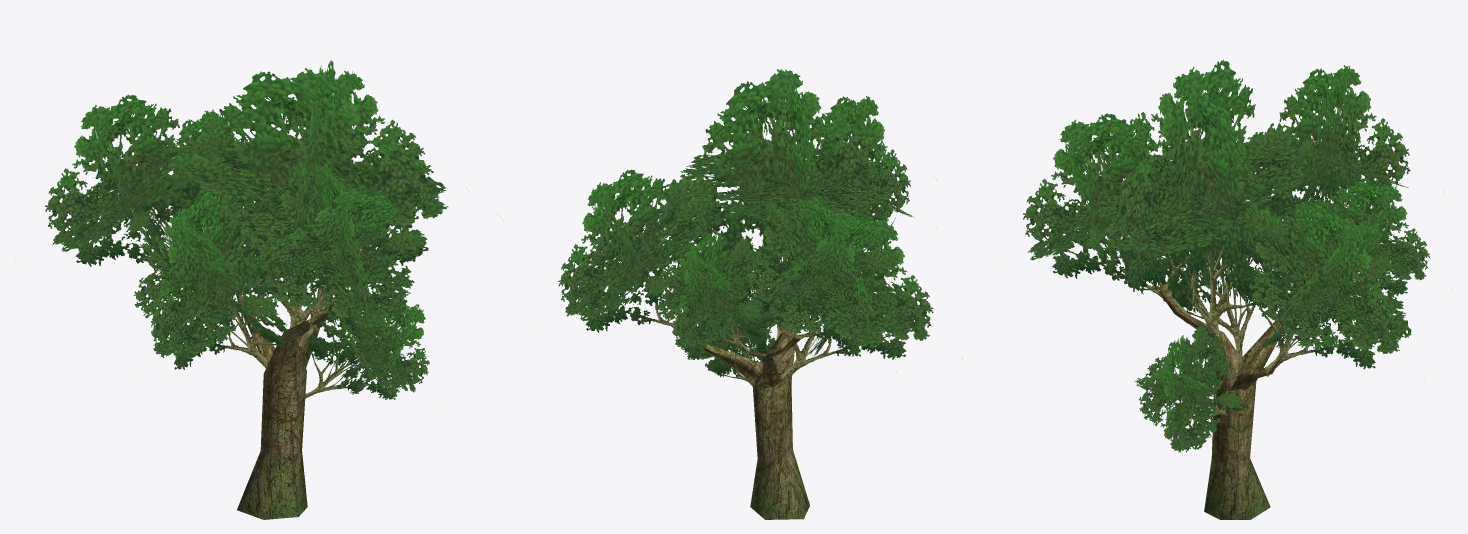
File: cj_graveyard_tree03.glb
3 renders of one model, left to right at view 1: azimuth 30°, elevation 25°; view 2: azimuth 150°, elevation 25°; view 3: azimuth 270°, elevation 25°, orthographic. The views are drawn at different scales.
Parts seen in each view (by area): view 1: cj_graveyard_tree03 (×2); view 2: cj_graveyard_tree03 (×2); view 3: cj_graveyard_tree03 (×2).
Boxes of the visible parts, x1,y1,x2,y2 form: cj_graveyard_tree03 (×2): (45, 60, 500, 519); cj_graveyard_tree03 (×2): (558, 69, 936, 519); cj_graveyard_tree03 (×2): (1023, 59, 1429, 519).
Bounding box in the file's own units: 50.6 × 62.49 × 52.17.
2 materials, 2 textured.
